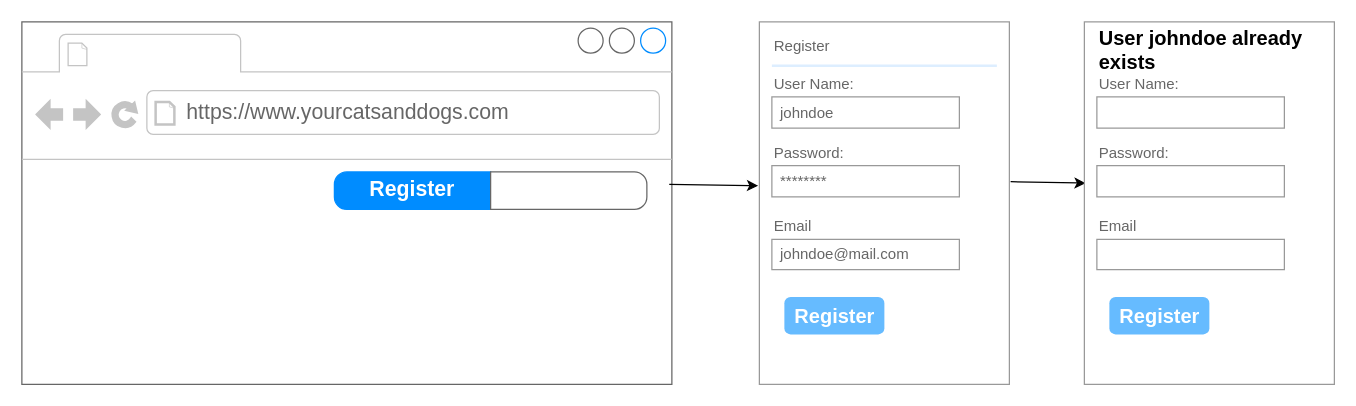
Image size: 1356x406. Some labels were removed from this diagram. Each missing label, with the centre of its shape:
Login: (568,190)
Page 1: (165,52)
